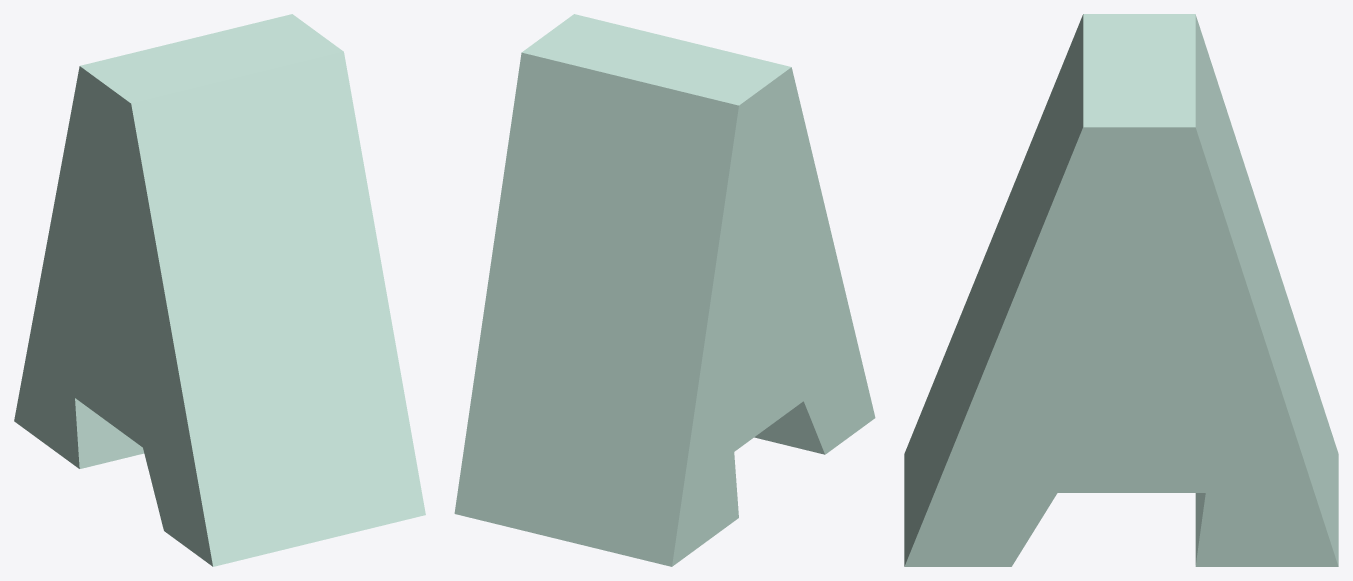
3 renders of one model, left to right at view 1: azimuth 30°, elevation 25°; view 2: azimuth 150°, elevation 25°; view 3: azimuth 270°, elevation 25°, orthographic. The views are drawn at different scales.
Parts seen in each view (by area): view 1: Renderer Node; view 2: Renderer Node; view 3: Renderer Node.
Part boxes in pixels (bbox=[...]): Renderer Node: bbox=[14, 14, 425, 566]; Renderer Node: bbox=[454, 14, 875, 566]; Renderer Node: bbox=[904, 14, 1338, 566].
Size of the model in its own units: 0.4141 by 0.75 by 0.6711.
